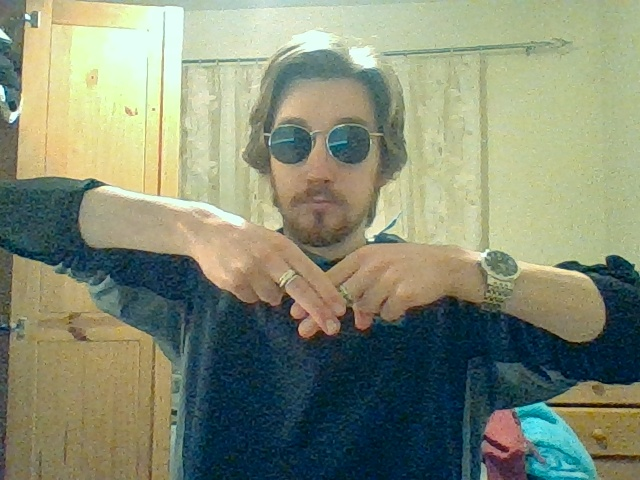father: (263, 226, 388, 338)
